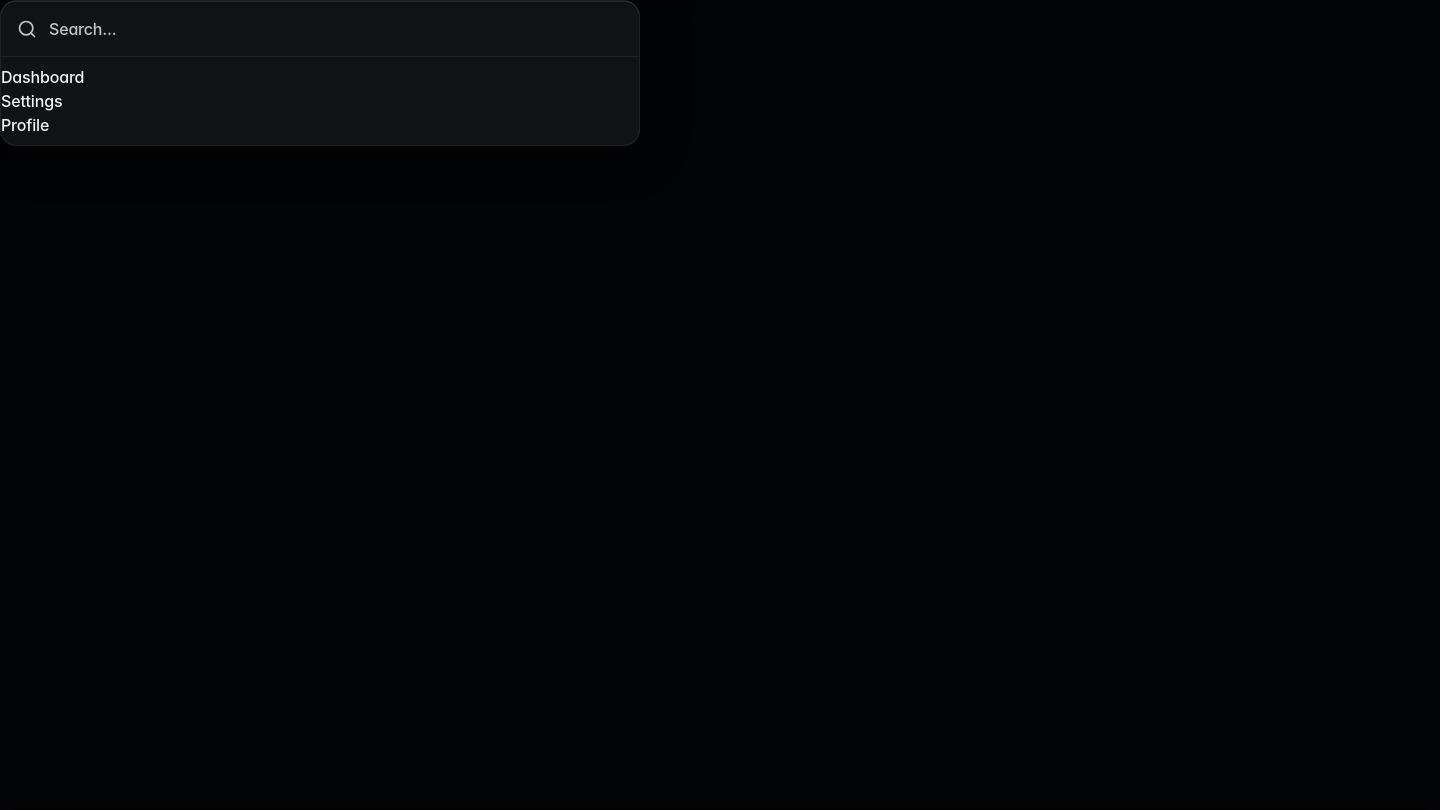
CommandPalette search › filters items client-side by default
The width and height of the screenshot is (1440, 810).
Type "dash" into the dropdown with placeholder "Search...".
click(336, 28); type("dash")  # box [49,1,623,56]
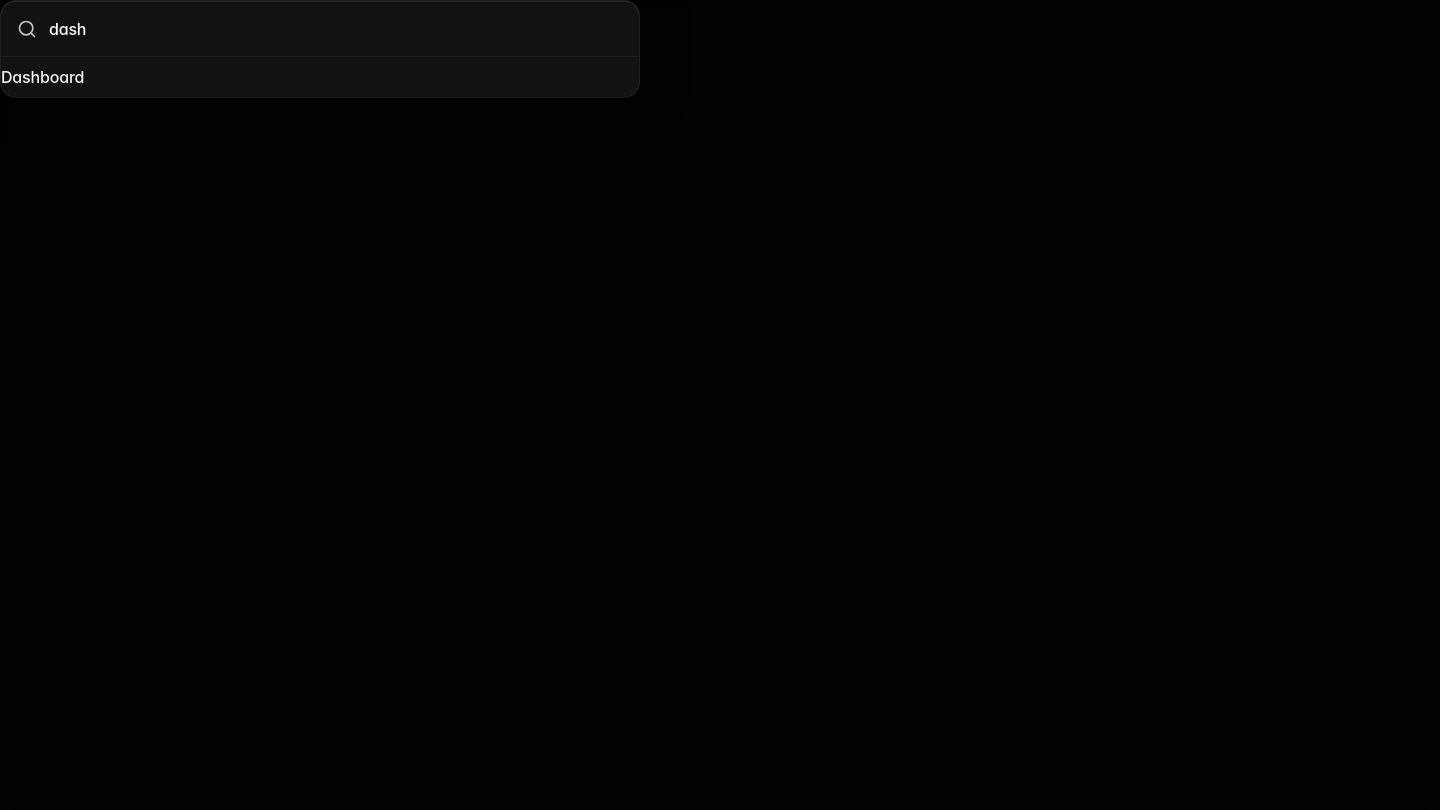
Expected: the text "Dashboard" is shown, [1,67,84,87]
Expected: the option "Settings" is gone
Expected: the option "Profile" is gone
